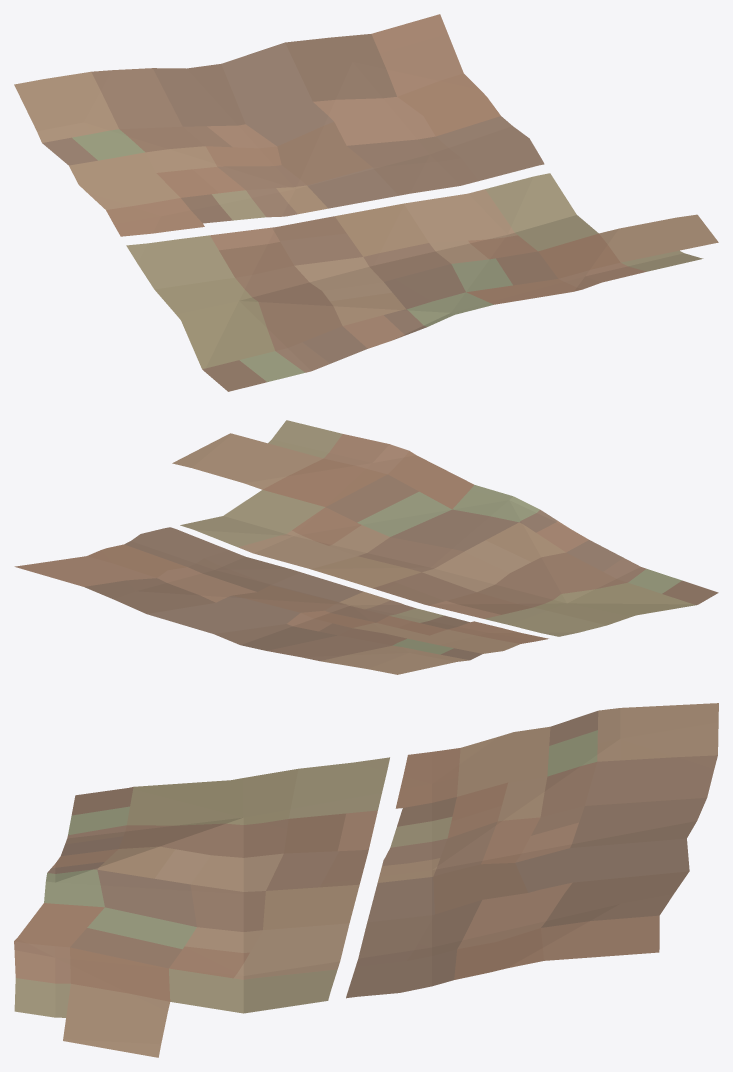
File: farm_-10_11_soil.glb
3 views of the same model, one above another, from view 1: azimuth 30°, elevation 25°; view 2: azimuth 150°, elevation 25°; view 3: azimuth 270°, elevation 25° (orthographic). The views are drawn at different scales.
Visible parts, largest first — view 1: geometry_0; view 2: geometry_0; view 3: geometry_0.
Boxes of the visible parts, box(x1,y1,x2,y2) form: geometry_0: box(14, 14, 718, 391); geometry_0: box(14, 420, 718, 674); geometry_0: box(14, 703, 718, 1057).
Size of the model in its own units: 301 by 57.38 by 300.
